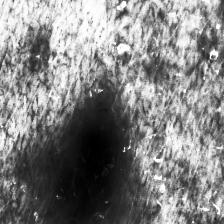Benign Marking or Mole: (56, 101, 119, 224)
